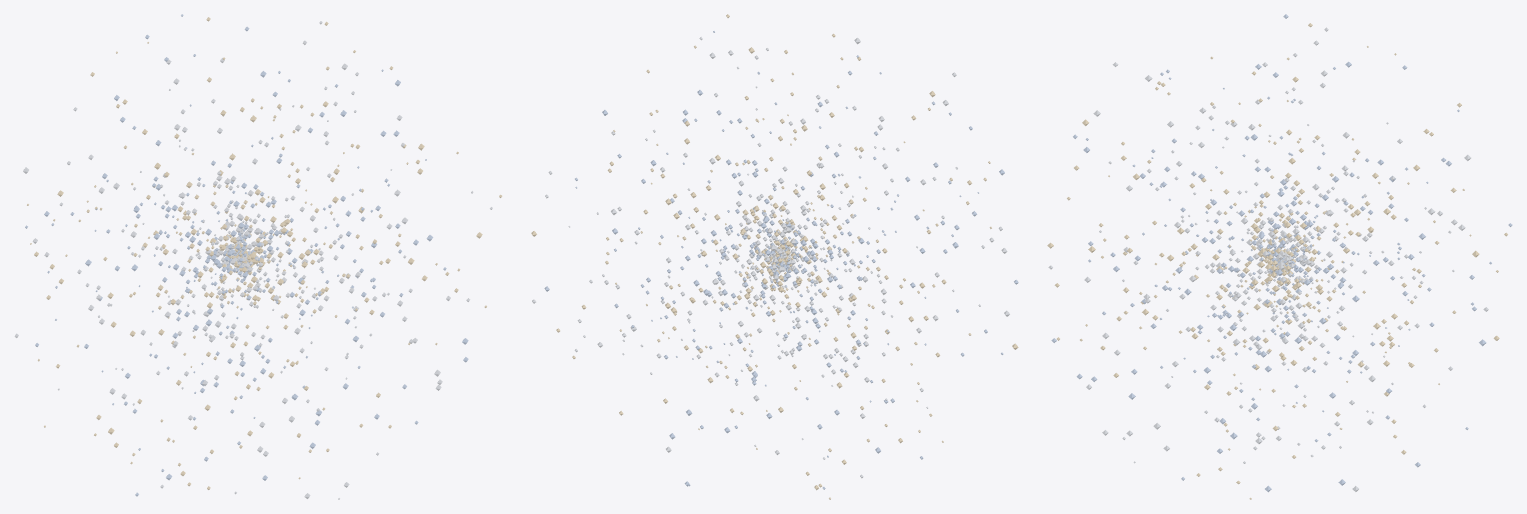
The picture shows the model from 3 angles, left to right: view 1: azimuth 30°, elevation 25°; view 2: azimuth 150°, elevation 25°; view 3: azimuth 270°, elevation 25°; orthographic projection. The views are drawn at different scales.
Bounding box in the file's own units: 4.88 × 4.93 × 4.63.
